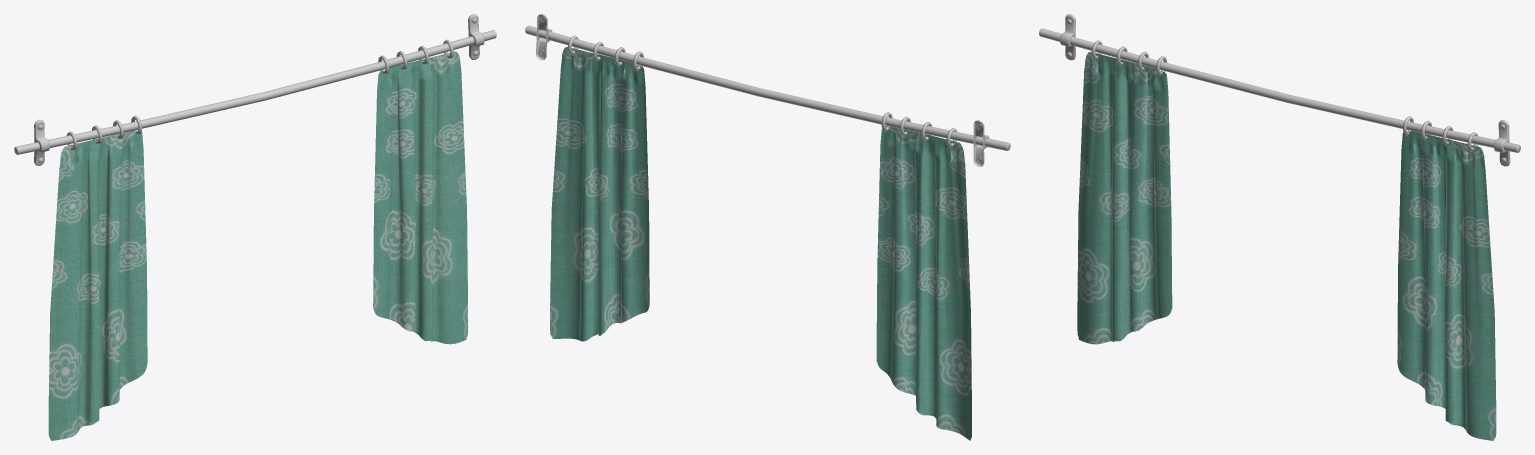
File: SM_Curtains.fbx
The picture shows the model from 3 angles, left to right: view 1: azimuth 30°, elevation 25°; view 2: azimuth 150°, elevation 25°; view 3: azimuth 330°, elevation 25°; orthographic projection.
Parts seen in each view (by area): view 1: SM_Curtains_LOD0; view 2: SM_Curtains_LOD0; view 3: SM_Curtains_LOD0.
Part boxes in pixels (left/top/right/bottom): SM_Curtains_LOD0: left=14, top=14, right=496, bottom=440; SM_Curtains_LOD0: left=525, top=14, right=1010, bottom=440; SM_Curtains_LOD0: left=1039, top=14, right=1520, bottom=440.
Size of the model in its own units: 192 by 6.6 by 123.
